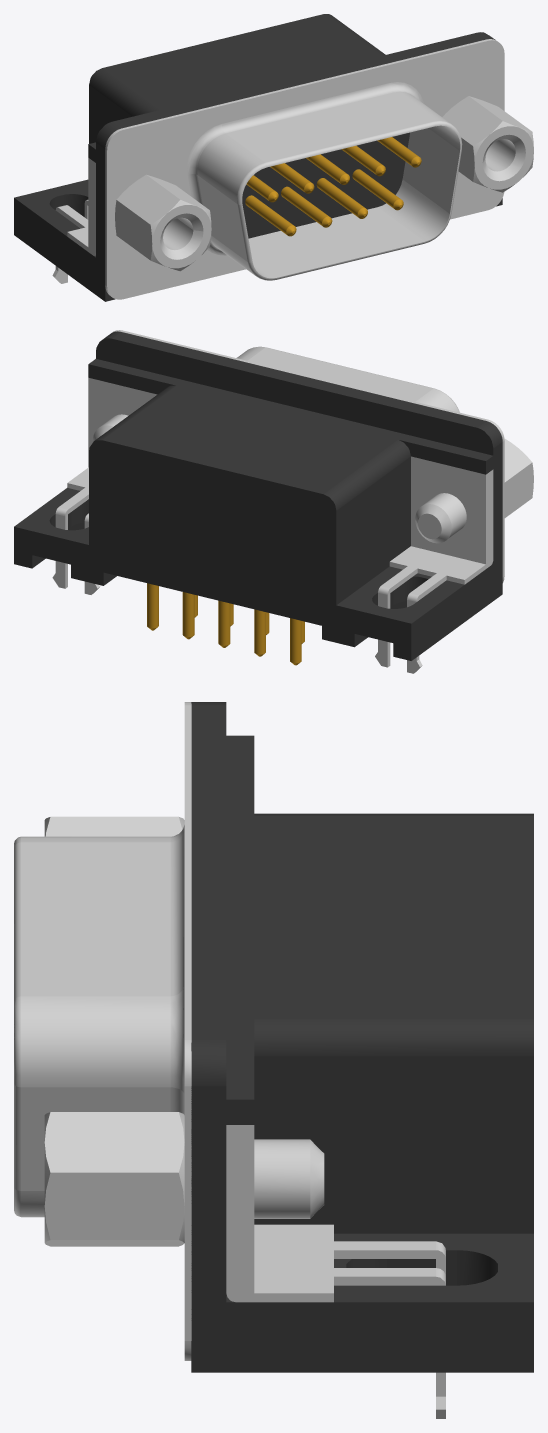
File: sfe-de9-male.glb
3 renders of one model, top to bottom at view 1: azimuth 30°, elevation 25°; view 2: azimuth 150°, elevation 25°; view 3: azimuth 270°, elevation 25°, orthographic. The views are drawn at different scales.
Parts seen in each view (by area): view 1: 0.6666666666666666_0.6666666666666666_0.6666666666666666_0.8, 0.08333333333333333_0.08333333333333333_0.08333333333333333_, 0.5833333333333334_0.25_0_0; view 2: 0.08333333333333333_0.08333333333333333_0.08333333333333333_, 0.6666666666666666_0.6666666666666666_0.6666666666666666_0.8, 0.5833333333333334_0.25_0_0; view 3: 0.08333333333333333_0.08333333333333333_0.08333333333333333_, 0.6666666666666666_0.6666666666666666_0.6666666666666666_0.8.
Boxes of the visible parts, x1=… form: 0.6666666666666666_0.6666666666666666_0.6666666666666666_0.8: x1=52, y1=39, x2=533, y2=299; 0.08333333333333333_0.08333333333333333_0.08333333333333333_: x1=14, y1=14, x2=502, y2=301; 0.5833333333333334_0.25_0_0: x1=245, y1=137, x2=421, y2=236; 0.08333333333333333_0.08333333333333333_0.08333333333333333_: x1=14, y1=331, x2=502, y2=660; 0.6666666666666666_0.6666666666666666_0.6666666666666666_0.8: x1=52, y1=330, x2=533, y2=673; 0.5833333333333334_0.25_0_0: x1=147, y1=583, x2=304, y2=665; 0.08333333333333333_0.08333333333333333_0.08333333333333333_: x1=191, y1=702, x2=533, y2=1372; 0.6666666666666666_0.6666666666666666_0.6666666666666666_0.8: x1=14, y1=702, x2=445, y2=1418.
Bounding box in the file's own units: 3.08 × 1.58 × 1.86.
